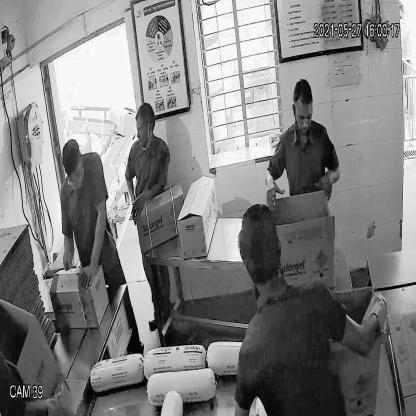no_goggles: (293, 107, 315, 126)
